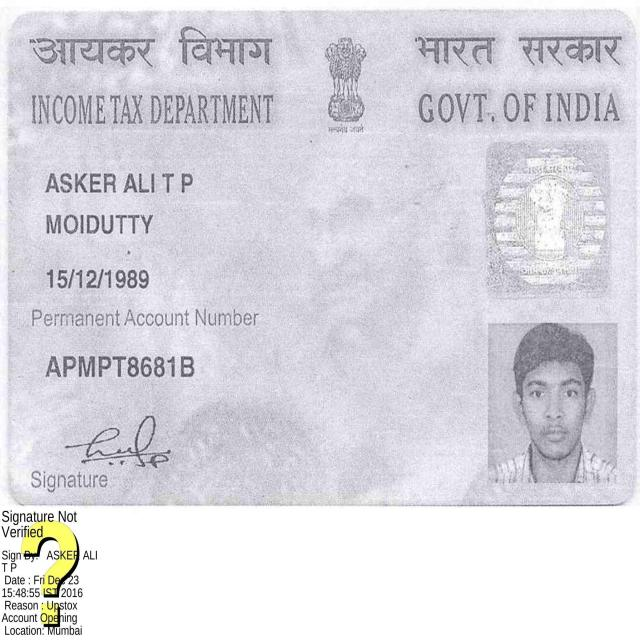pan_card: (12, 13, 633, 503)
